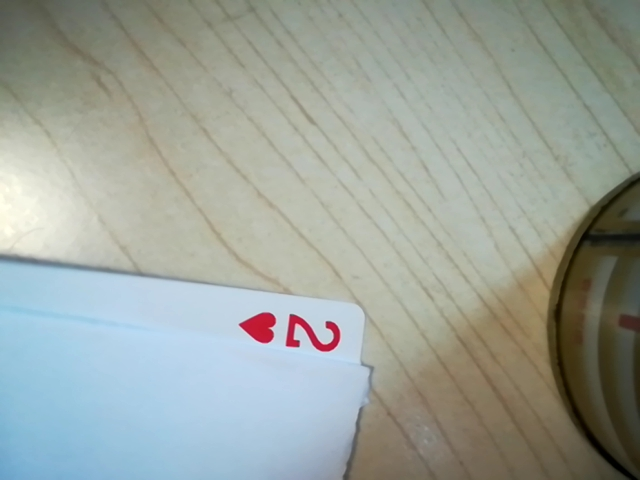hx 2: (244, 306, 352, 359)
